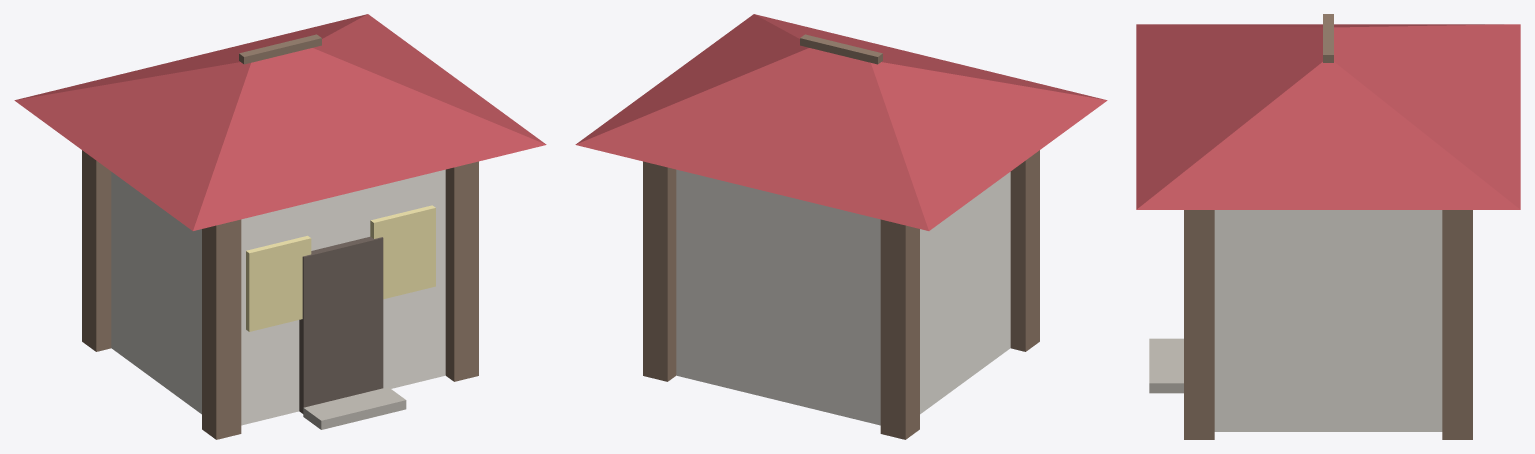
File: residential_e.glb
3 renders of one model, left to right at view 1: azimuth 30°, elevation 25°; view 2: azimuth 150°, elevation 25°; view 3: azimuth 270°, elevation 25°, orthographic. The views are drawn at different scales.
Bounding box in the file's own units: 4 × 3.38 × 3.5.
